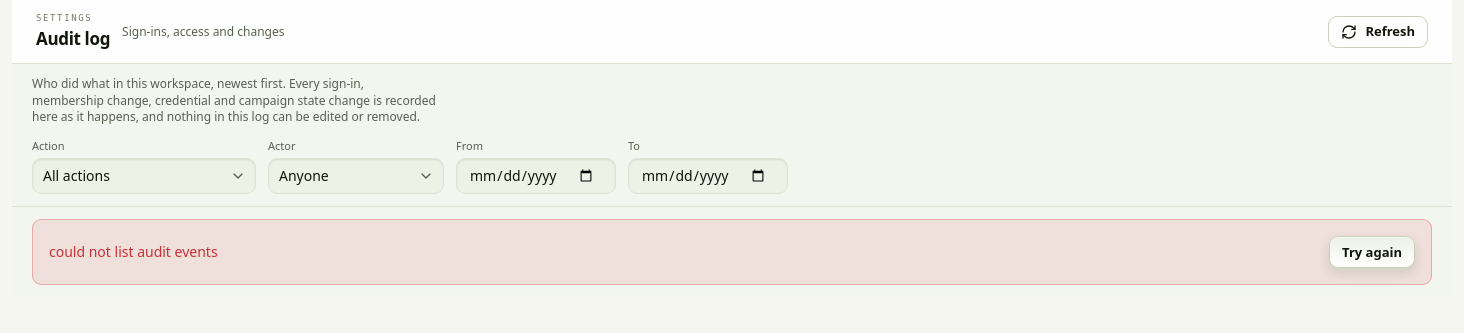
Test: a failed load offers a retry that recovers
Expected: the message shows "could not list audit events", [49, 242, 218, 261]
Click the button "Try again": click(1372, 252) [1329, 236, 1415, 268]
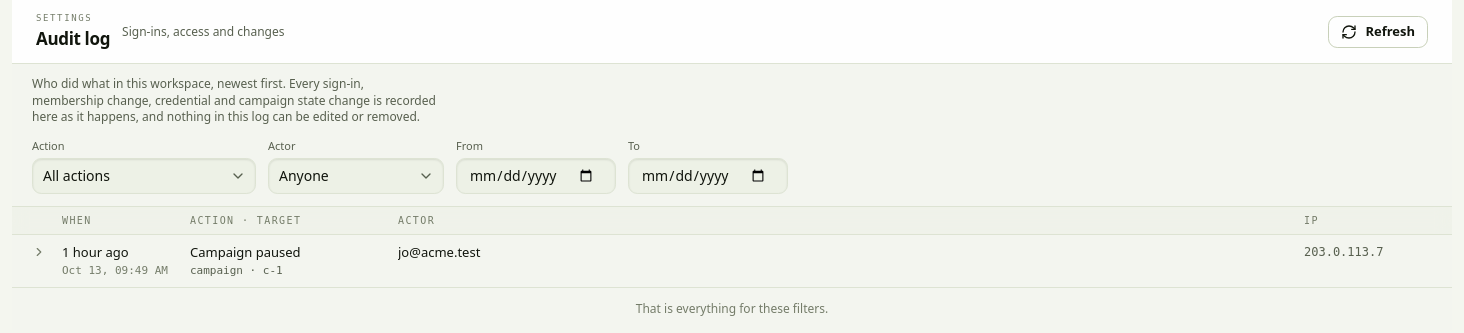
Result: the text "Campaign paused" is shown at [190, 243, 301, 262]
